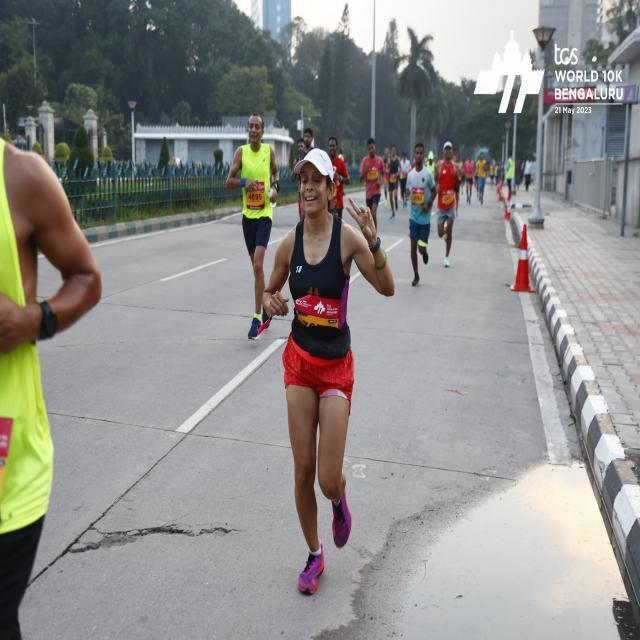dorsal: (294, 294, 341, 332), (245, 179, 265, 208)
